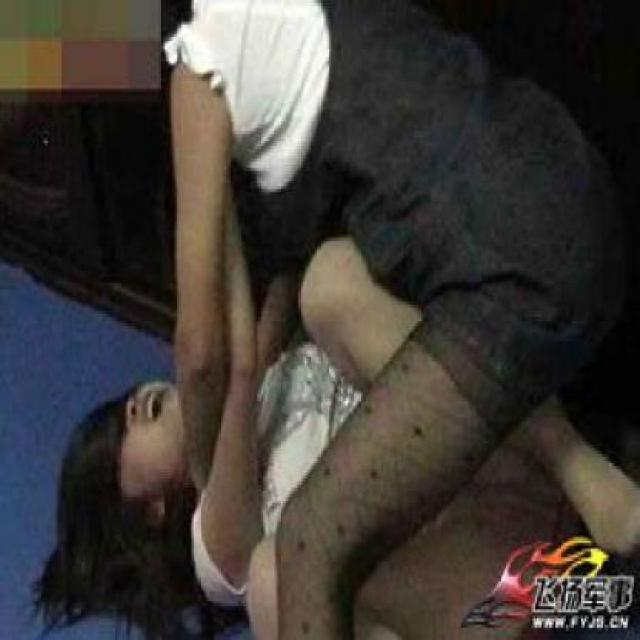fall: (88, 0, 615, 637)
